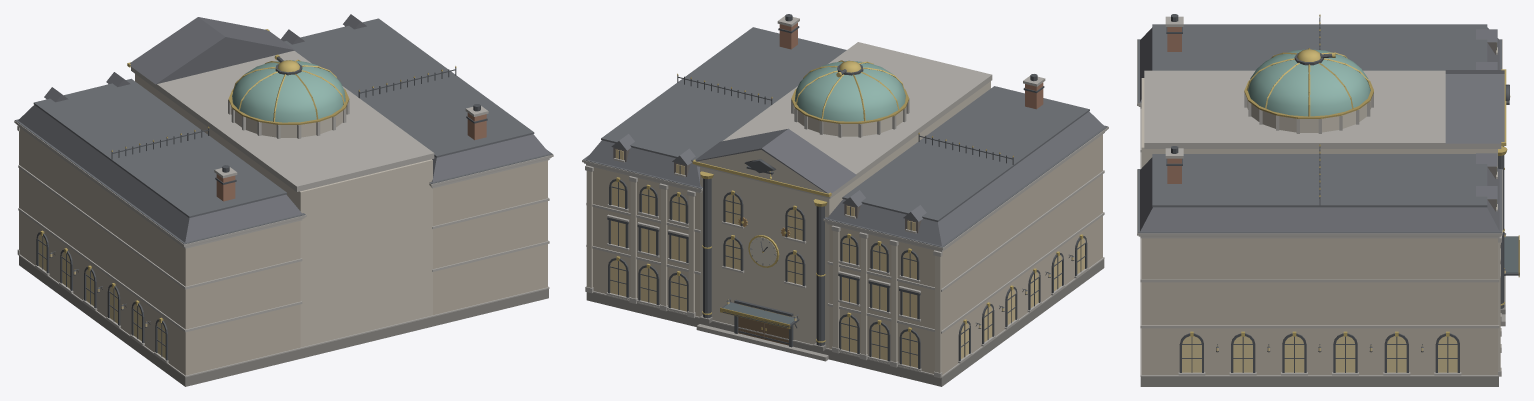
File: centro-universidade-745eeee3.glb
3 views of the same model, side by side, from view 1: azimuth 30°, elevation 25°; view 2: azimuth 150°, elevation 25°; view 3: azimuth 270°, elevation 25° (orthographic). The views are drawn at different scales.
Visible parts, largest first — view 1: centro_universidade_body, centro_universidade_wall, centro_universidade_lamp; view 2: centro_universidade_body, centro_universidade_wall, centro_universidade_lamp; view 3: centro_universidade_body, centro_universidade_wall, centro_universidade_lamp.
Part boxes in pixels (bbox=[...]): centro_universidade_body: bbox=[14, 14, 553, 377]; centro_universidade_wall: bbox=[19, 74, 548, 386]; centro_universidade_lamp: bbox=[38, 234, 165, 358]; centro_universidade_body: bbox=[582, 14, 1108, 378]; centro_universidade_wall: bbox=[586, 23, 1104, 386]; centro_universidade_lamp: bbox=[610, 149, 1084, 367]; centro_universidade_body: bbox=[1137, 14, 1519, 376]; centro_universidade_wall: bbox=[1140, 27, 1498, 386]; centro_universidade_lamp: bbox=[1182, 42, 1505, 372].
Bounding box in the file's own units: 28.21 × 16.16 × 23.3.
